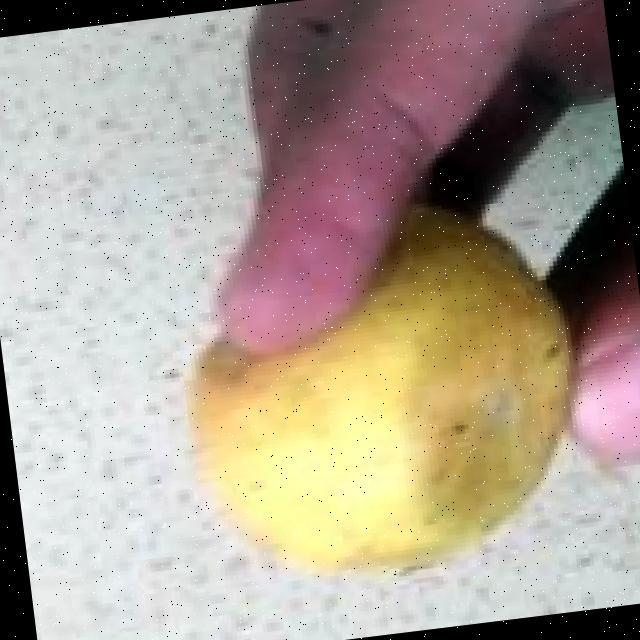Bad_Lime-0-1-day: (190, 202, 577, 581)
